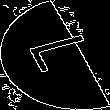L_E: (14, 32, 96, 78)
